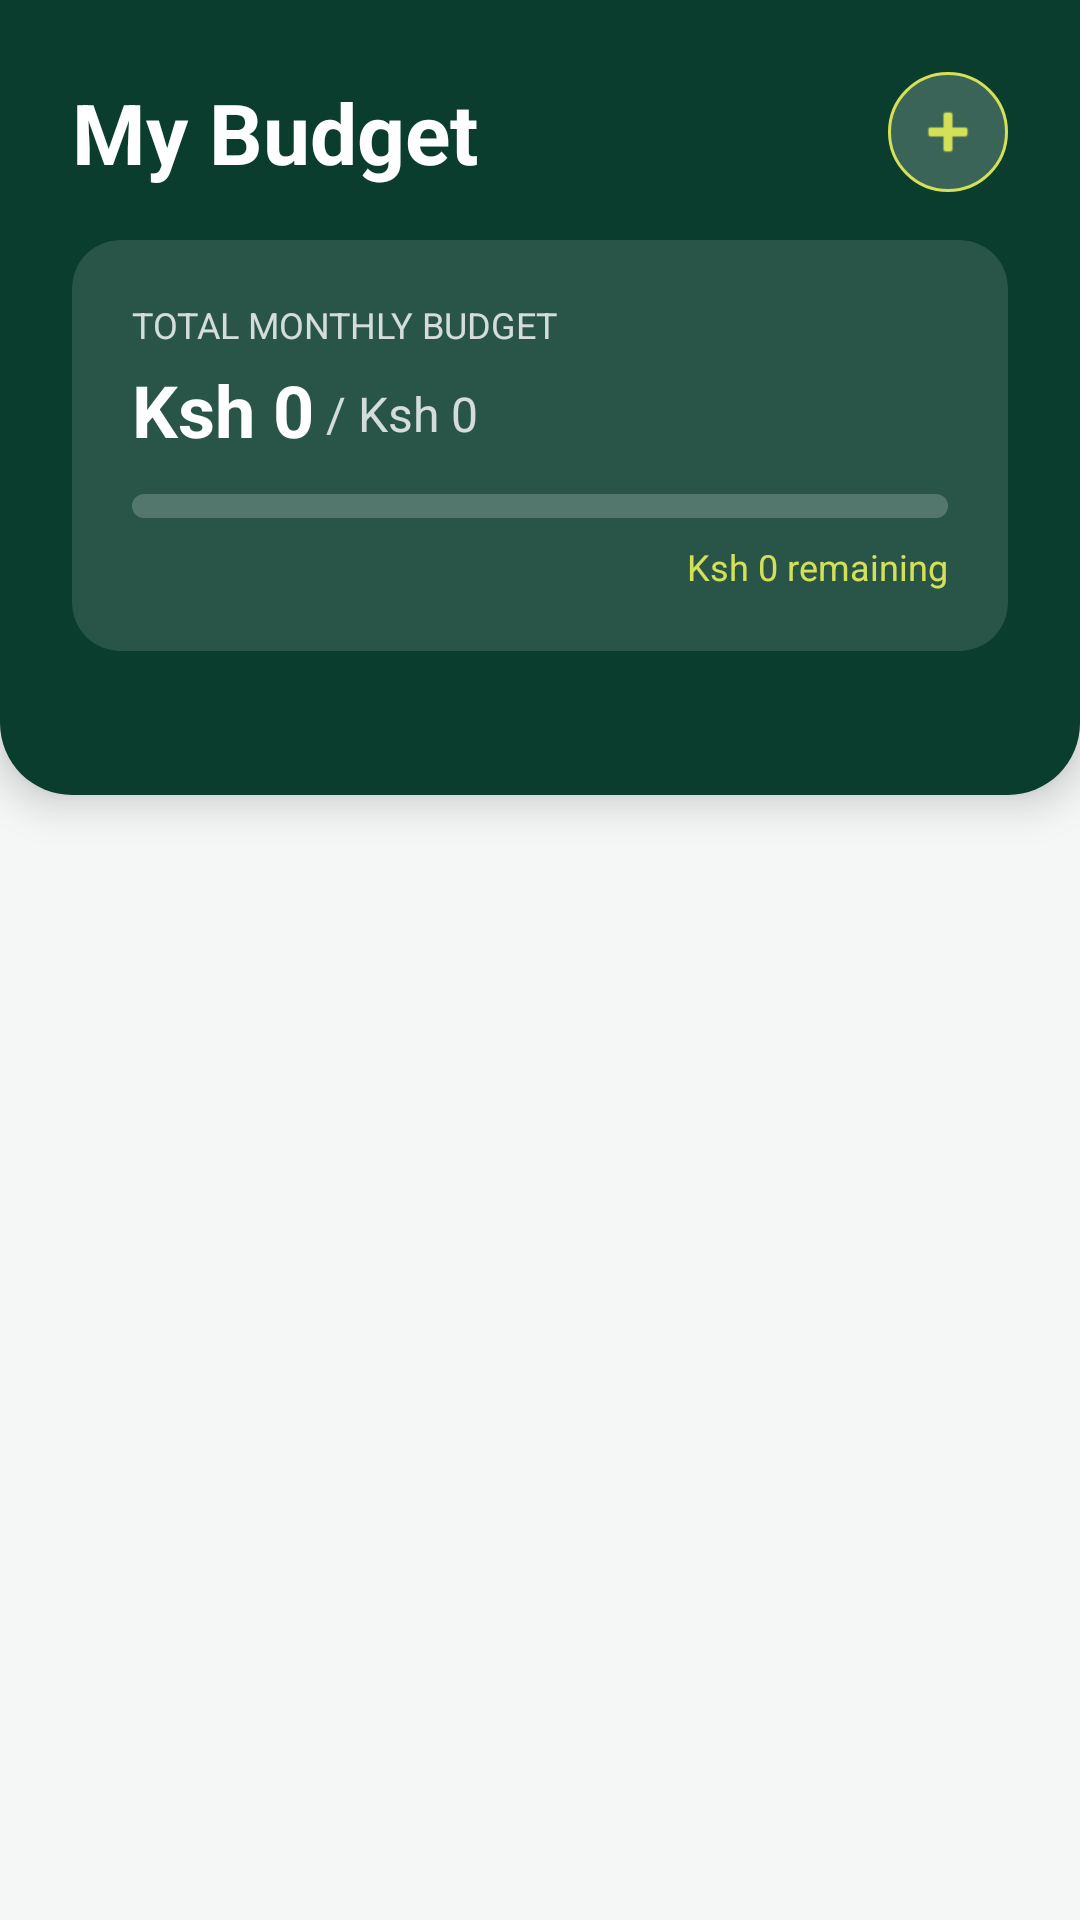

Point at icon controls on the screen. Image size 1080px x 1920px, points as point (x, y).
add: point (948, 132)
